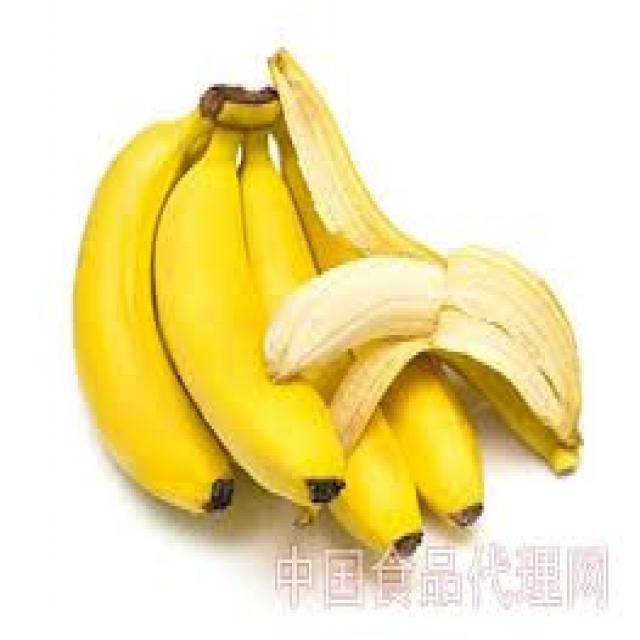organic waste: (258, 43, 579, 476), (270, 104, 484, 523), (236, 120, 426, 560), (148, 111, 346, 506), (70, 84, 228, 512)
